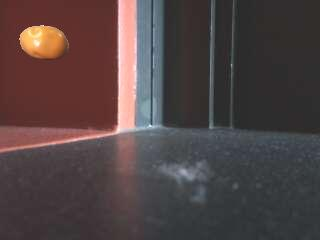Orange: (19, 24, 70, 61)
